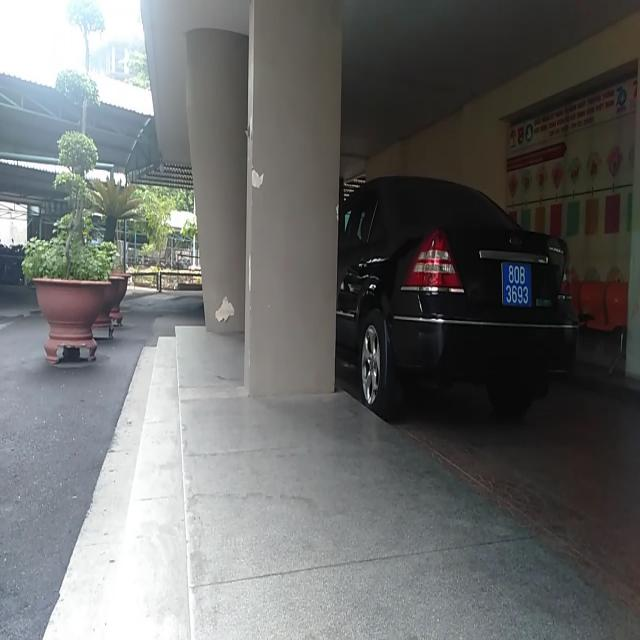bien_xanh: (499, 257, 536, 316)
